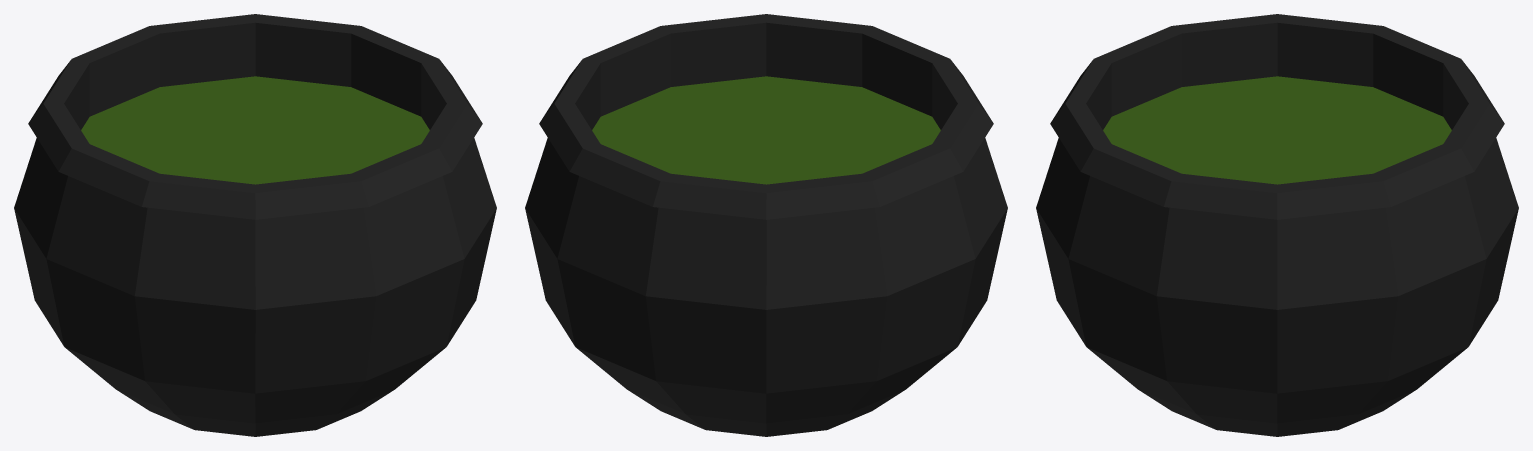
Rendered from cauldron.glb.
3 renders of one model, left to right at view 1: azimuth 30°, elevation 25°; view 2: azimuth 150°, elevation 25°; view 3: azimuth 270°, elevation 25°, orthographic.
Parts seen in each view (by area): view 1: Cauldron_Circle; view 2: Cauldron_Circle; view 3: Cauldron_Circle.
Boxes of the visible parts, box(x1,y1,x2,y2) form: Cauldron_Circle: box(14, 14, 496, 436); Cauldron_Circle: box(525, 14, 1007, 436); Cauldron_Circle: box(1036, 14, 1518, 436).
Size of the model in its own units: 1.79 by 1.15 by 1.79.
